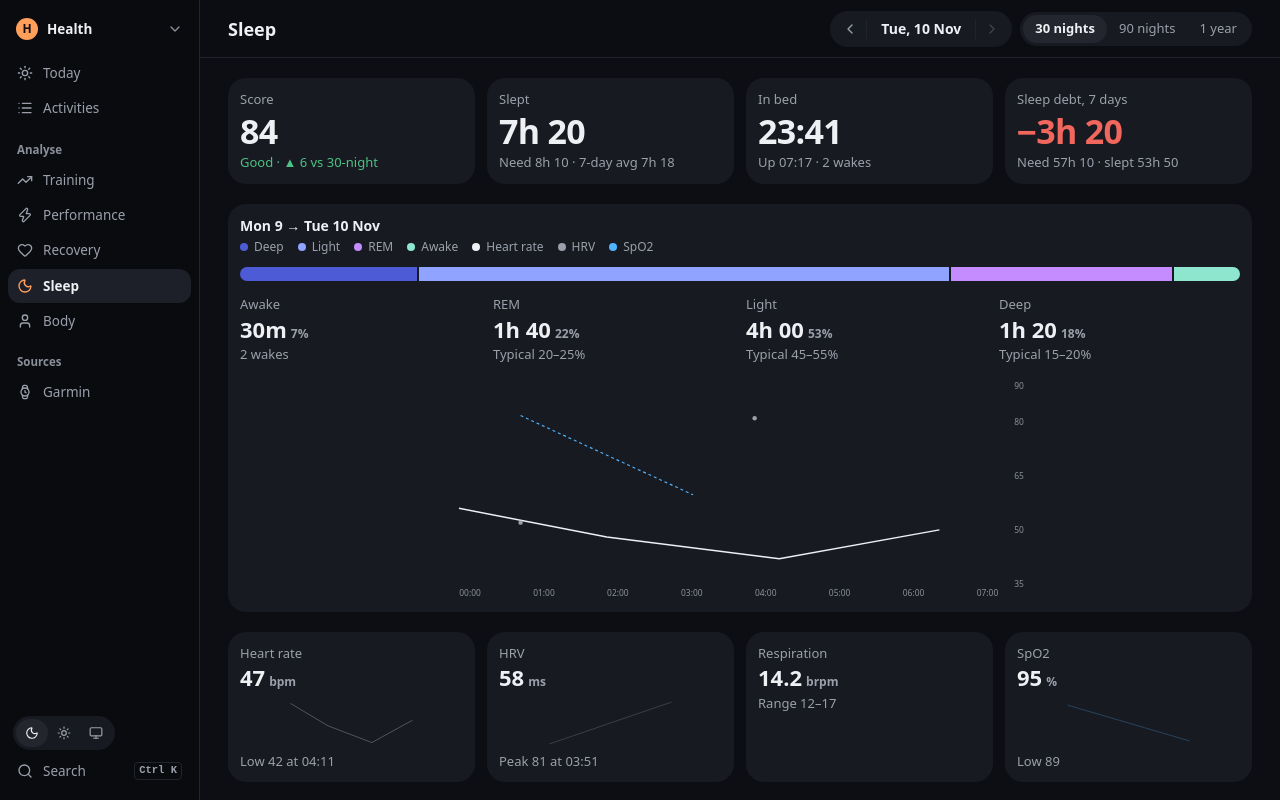
Scenario: steps between nights that exist and never past the latest
The image size is (1280, 800).
Check: the text "84" is shown, box x1=240 y1=108 x2=278 y2=154
Check: the button named "Next night" is disabled, box x1=976 y1=14 x2=1008 y2=44
Click the button named "Previous night": (850,28) x1=834 y1=14 x2=866 y2=44
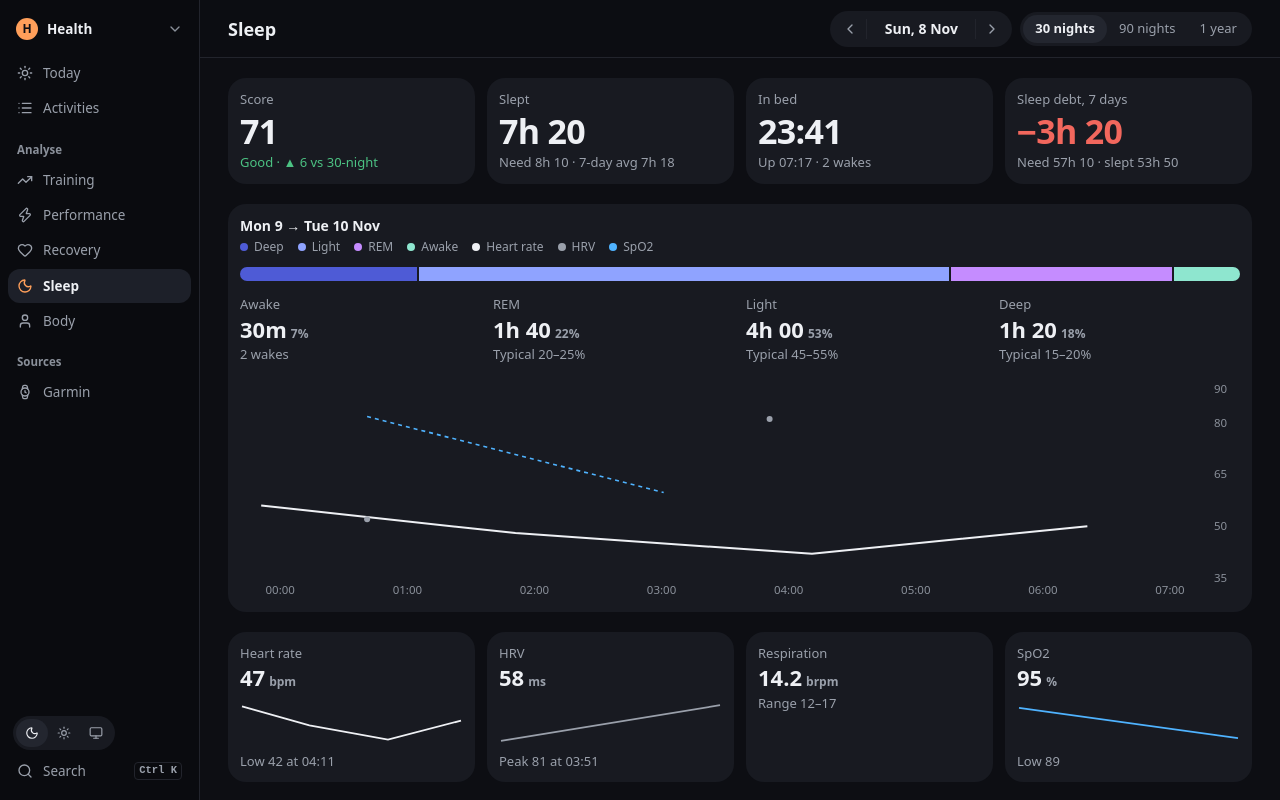
Check: the button named "Next night" is enabled, box x1=976 y1=14 x2=1008 y2=44
Check: the text "71" is shown, box x1=240 y1=108 x2=278 y2=154
